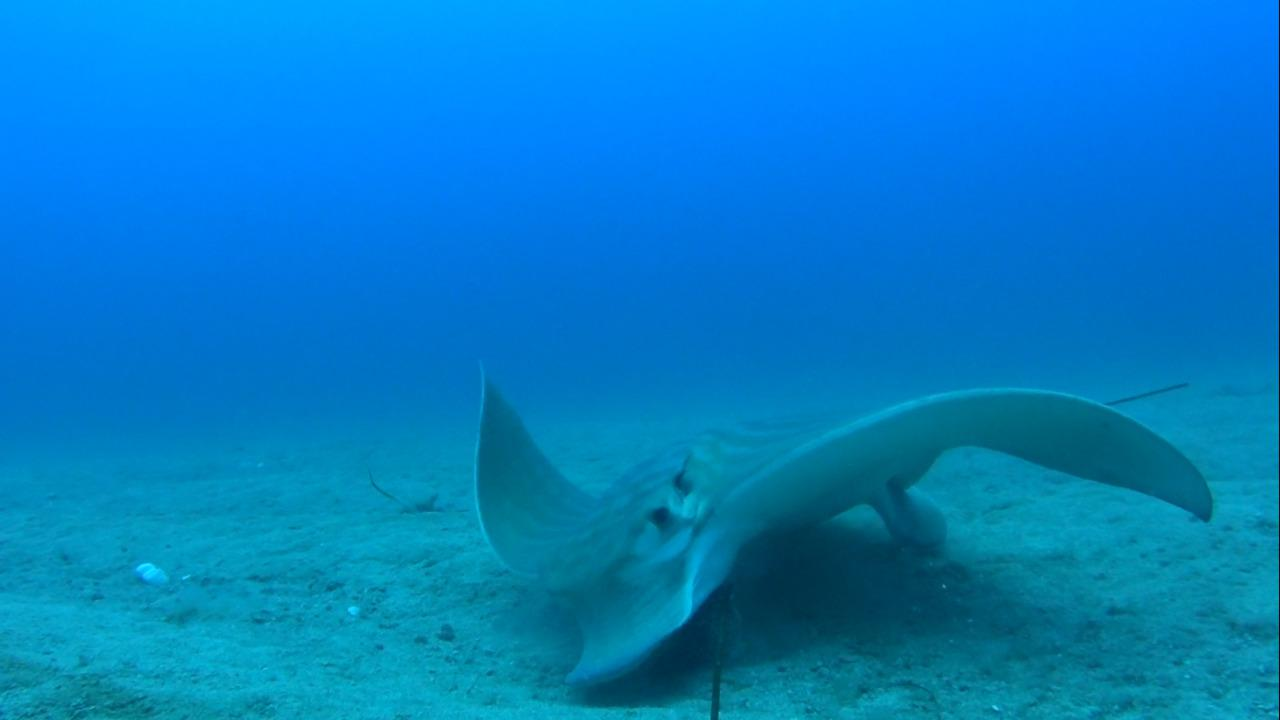myliobatis: (460, 358, 1226, 704)
